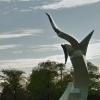Statue: (35, 3, 100, 97)
